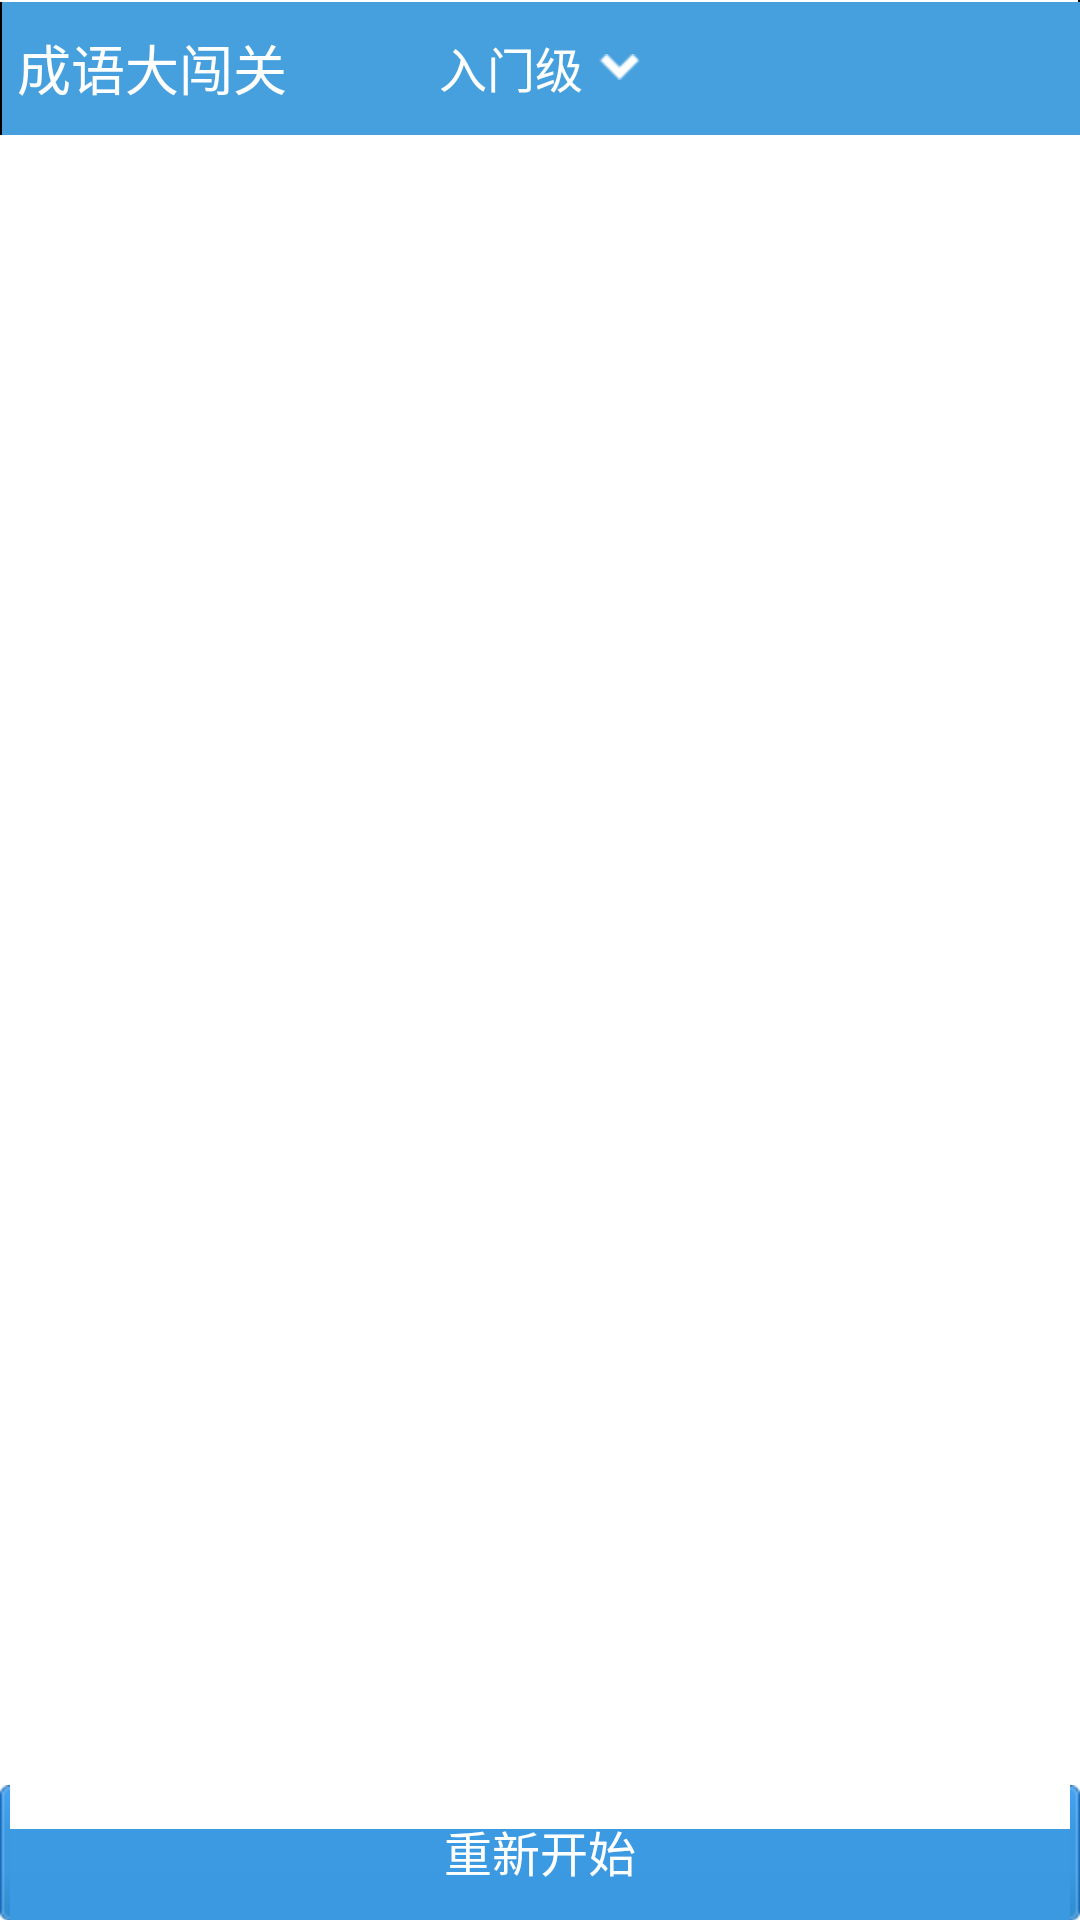

Icon click points for this 1080*1920 phone screenshot, format [x,y]:
level fold: [619,67]
